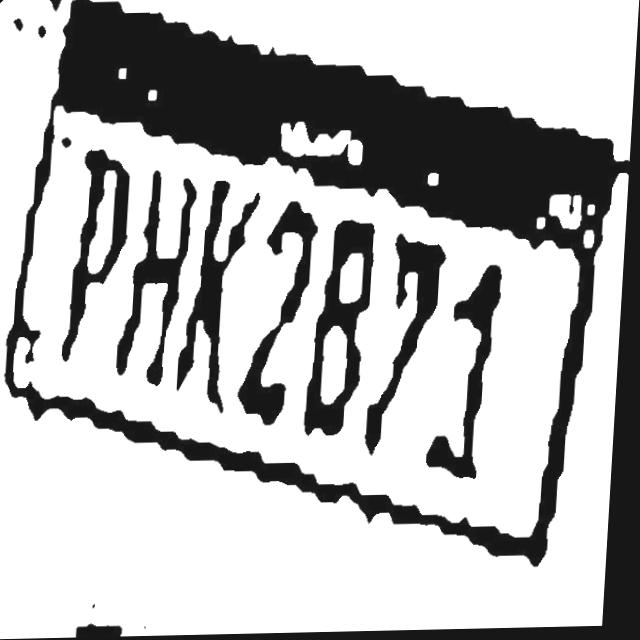1: (436, 259, 509, 487)
2: (244, 197, 321, 428)
7: (376, 230, 451, 466)
b: (309, 213, 381, 448)
h: (124, 167, 201, 393)
k: (181, 174, 252, 411)
p: (66, 144, 139, 374)
